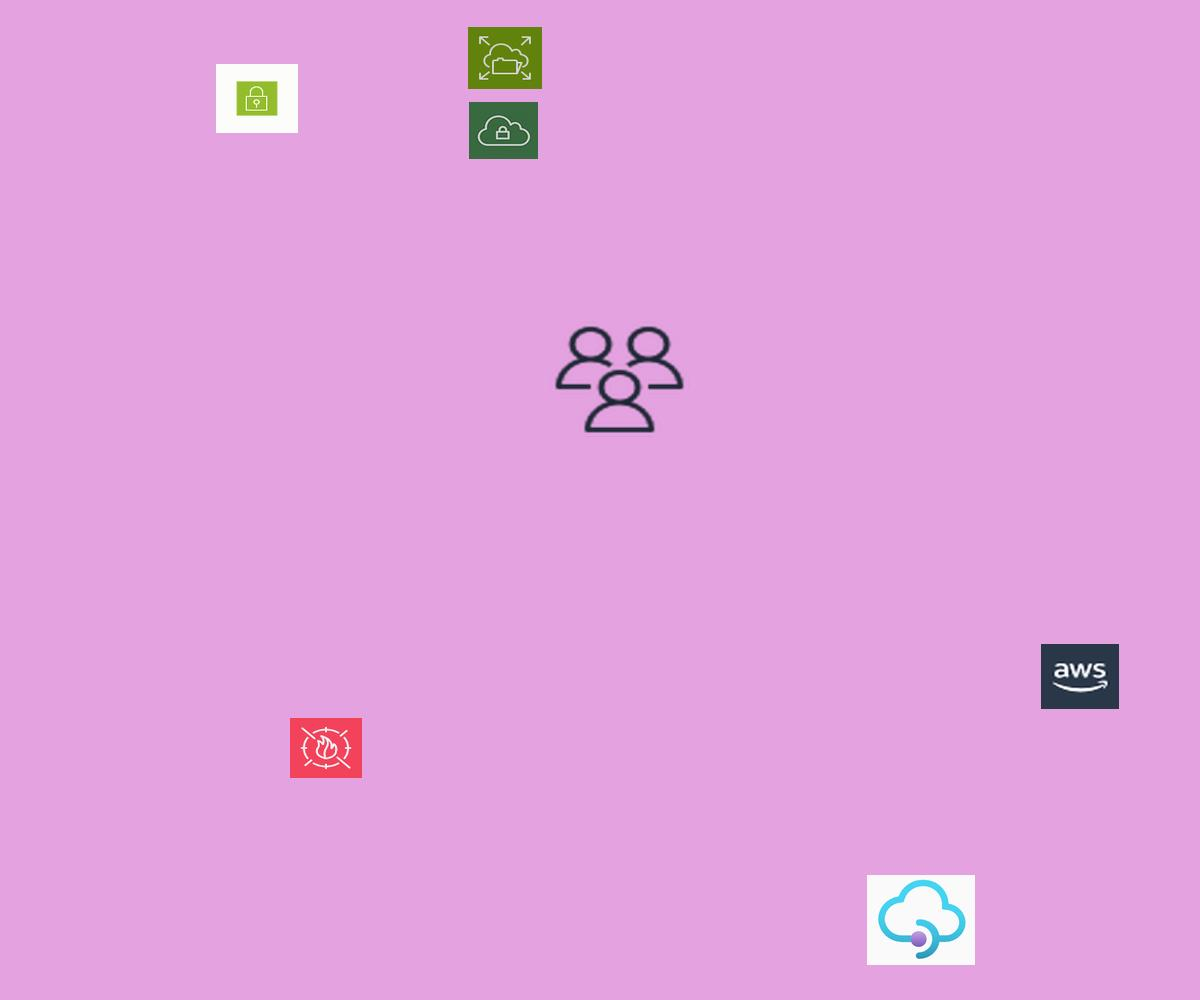AWS-Cloud-logo: (1041, 644, 1119, 709)
AWS-EFS: (468, 27, 542, 89)
AWS-Private_vpc: (469, 102, 538, 159)
AWS-Public-subnet: (216, 64, 298, 133)
AWS-Res_Users: (550, 322, 689, 437)
AWS-WAF: (290, 718, 362, 778)
Azure_api_gateway: (867, 875, 975, 965)
